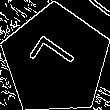L_SE: (27, 34, 84, 87)
